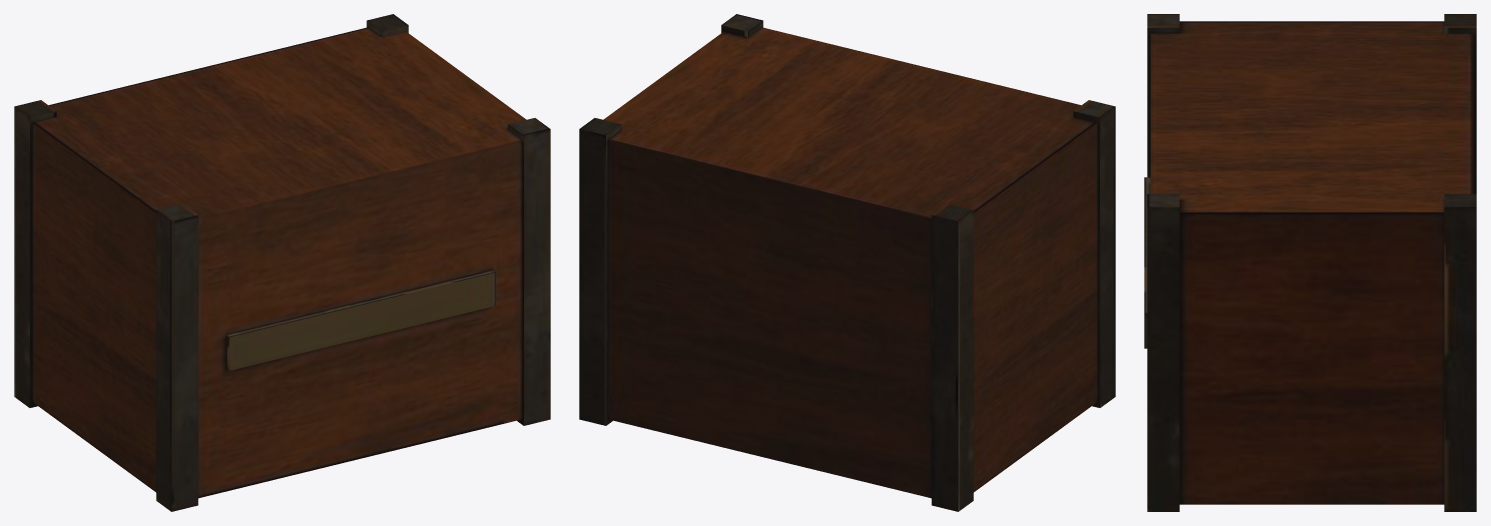
File: cantina_prop_cargo_A_lod1.glb
3 views of the same model, side by side, from view 1: azimuth 30°, elevation 25°; view 2: azimuth 150°, elevation 25°; view 3: azimuth 270°, elevation 25° (orthographic). The views are drawn at different scales.
Visible parts, largest first — view 1: cantina_prop_cargo_A; view 2: cantina_prop_cargo_A; view 3: cantina_prop_cargo_A.
Boxes of the visible parts, x1,y1,x2,y2 form: cantina_prop_cargo_A: (14,14,550,511); cantina_prop_cargo_A: (579,14,1115,511); cantina_prop_cargo_A: (1144,14,1476,511).
Bounding box in the file's own units: 0.71 × 0.52 × 0.515.
1 material, 1 textured.
